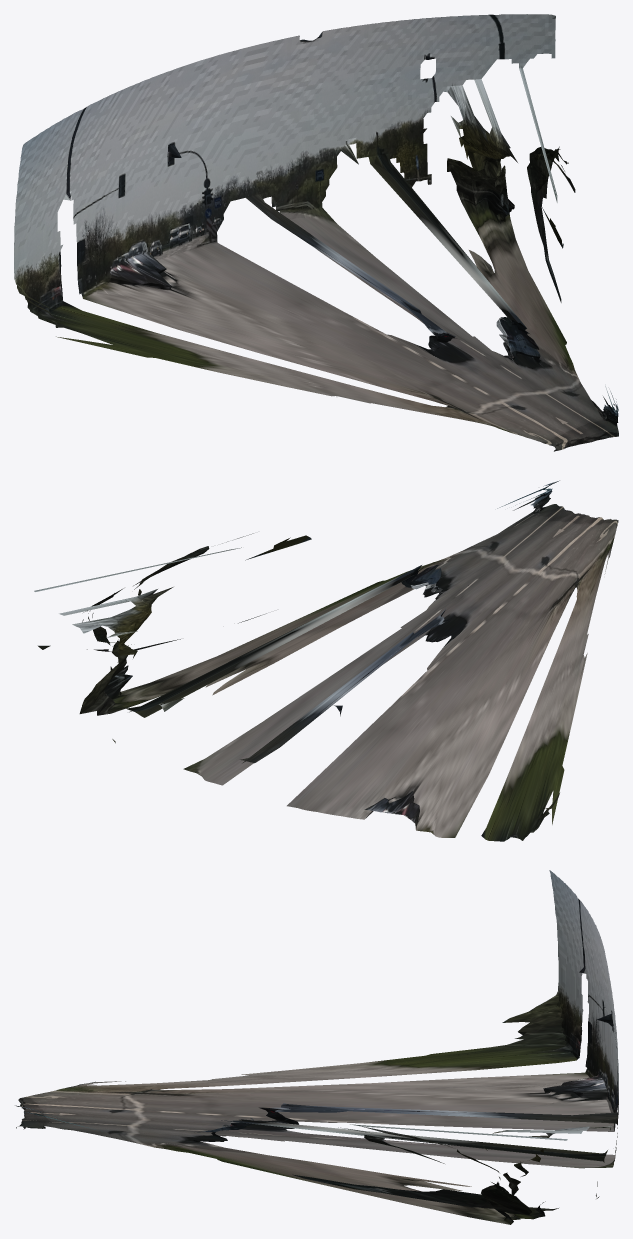
3 renders of one model, top to bottom at view 1: azimuth 30°, elevation 25°; view 2: azimuth 150°, elevation 25°; view 3: azimuth 270°, elevation 25°, orthographic. The views are drawn at different scales.
Visible parts, largest first — view 1: defaultobject; view 2: defaultobject; view 3: defaultobject.
Boxes of the visible parts, left/top/right/bottom form: defaultobject: left=14, top=14, right=618, bottom=451; defaultobject: left=34, top=480, right=618, bottom=841; defaultobject: left=15, top=870, right=618, bottom=1224.
Bounding box in the file's own units: 41.05 × 14.55 × 44.72.
Materials: 1 (1 with a texture image).
